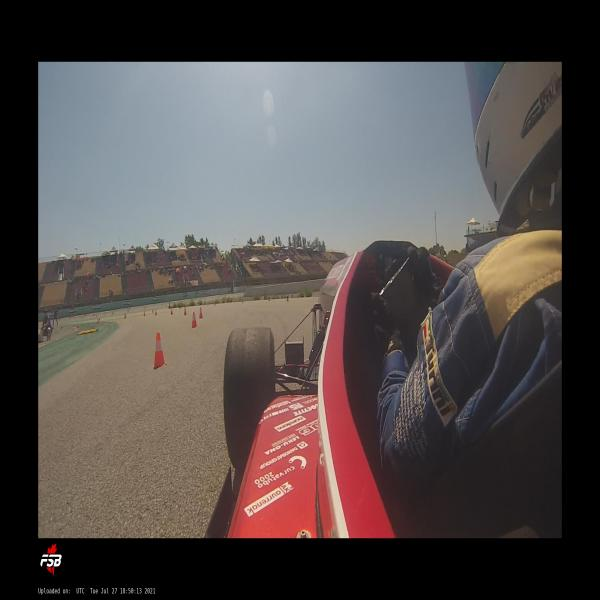orange_cone: (152, 332, 168, 369), (192, 311, 198, 328), (199, 308, 203, 318), (184, 307, 187, 315), (76, 323, 79, 330), (97, 318, 99, 324), (124, 314, 126, 319), (144, 311, 146, 316), (171, 309, 173, 314), (156, 309, 157, 315)
yellow_cone: (98, 318, 100, 323), (152, 308, 154, 312)
